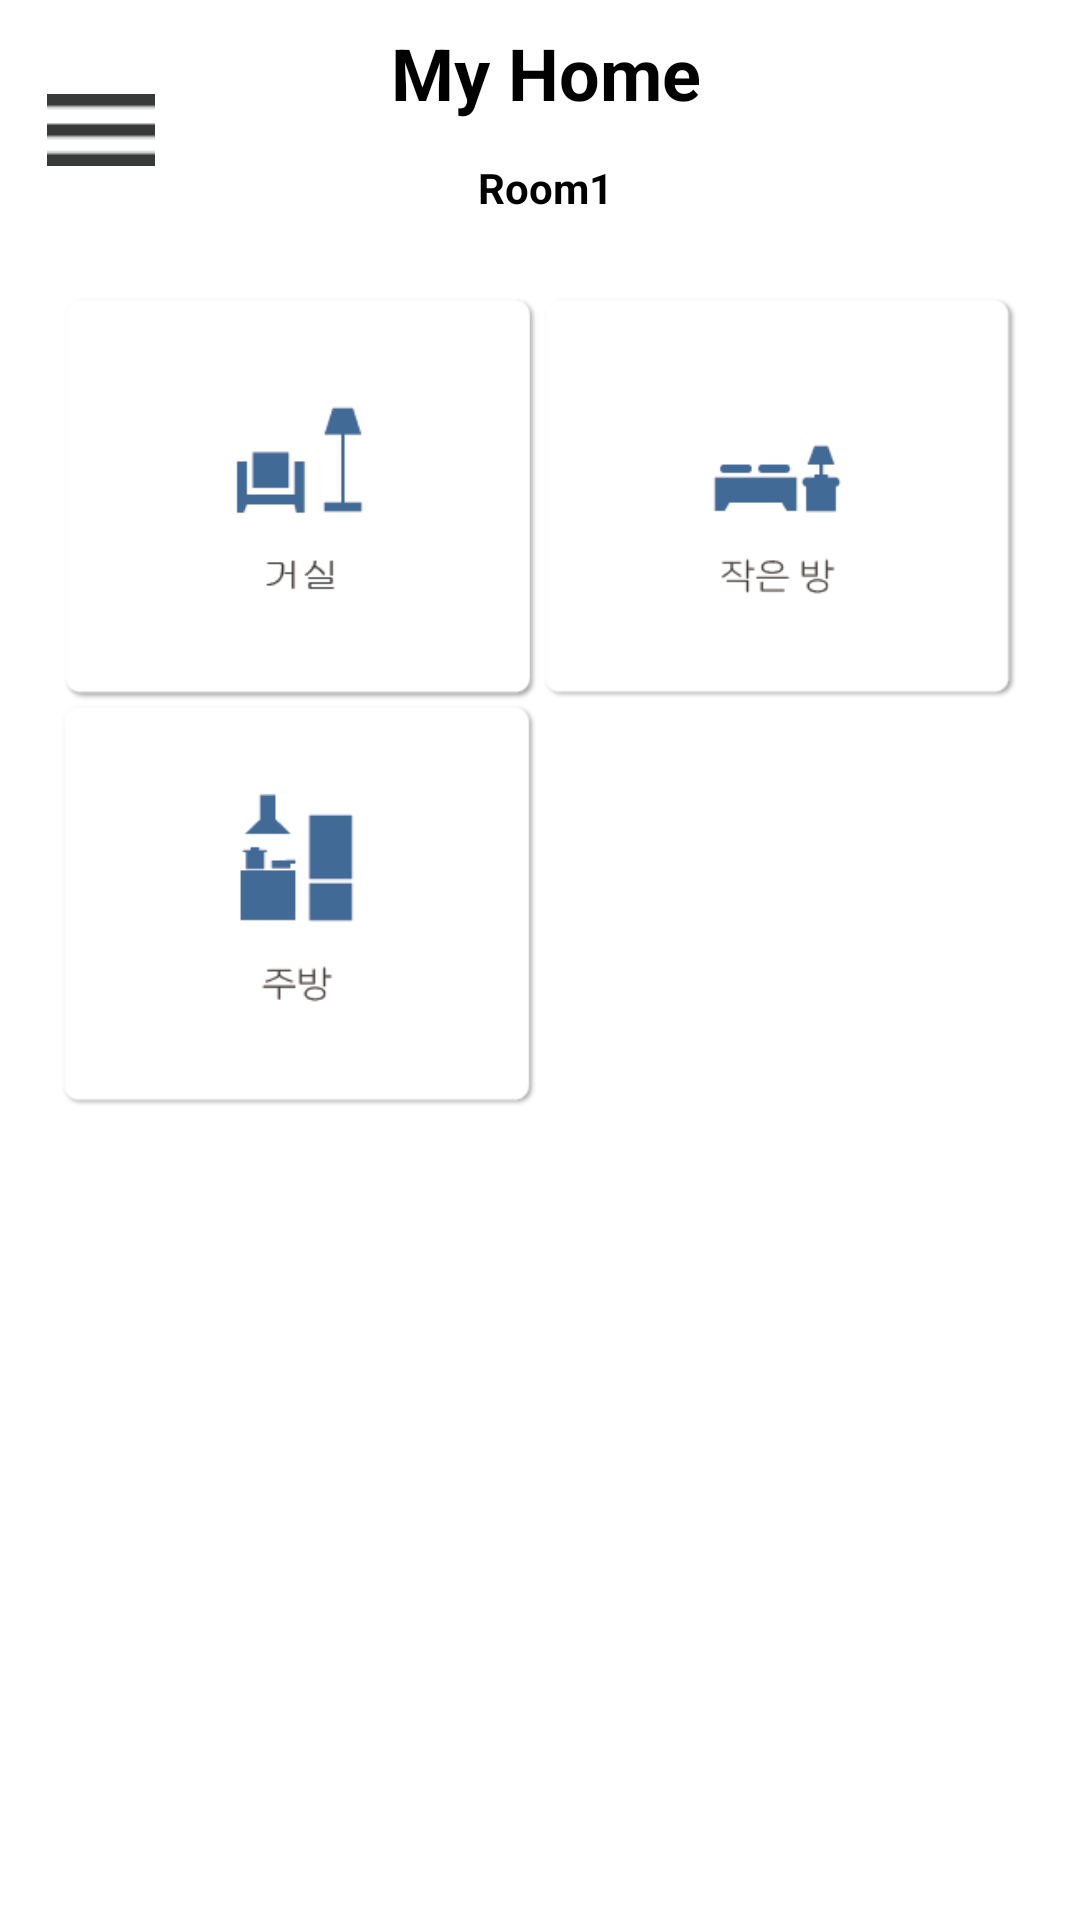

Icon click points for this 1080*1920 phone screenshot, format [x,y]:
line: [101,130]
